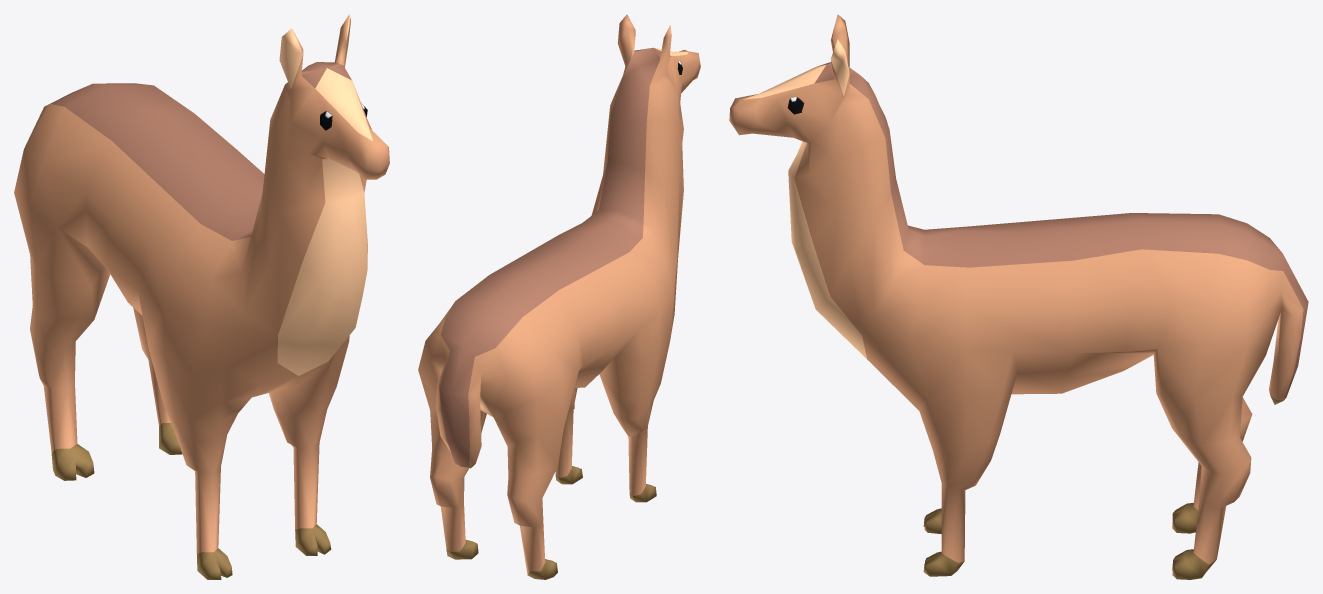
File: Llama.glb
The picture shows the model from 3 angles, left to right: view 1: azimuth 30°, elevation 25°; view 2: azimuth 150°, elevation 25°; view 3: azimuth 270°, elevation 25°; orthographic projection. The views are drawn at different scales.
Visible parts, largest first — view 1: Llama; view 2: Llama; view 3: Llama.
Part boxes in pixels (<box>): Llama: <box>14,14,389,579</box>; Llama: <box>418,14,700,579</box>; Llama: <box>729,14,1308,579</box>.
Size of what is drawn, in the model's own units: 0.6856 by 2.14 by 2.15.
1 material, 1 textured.
